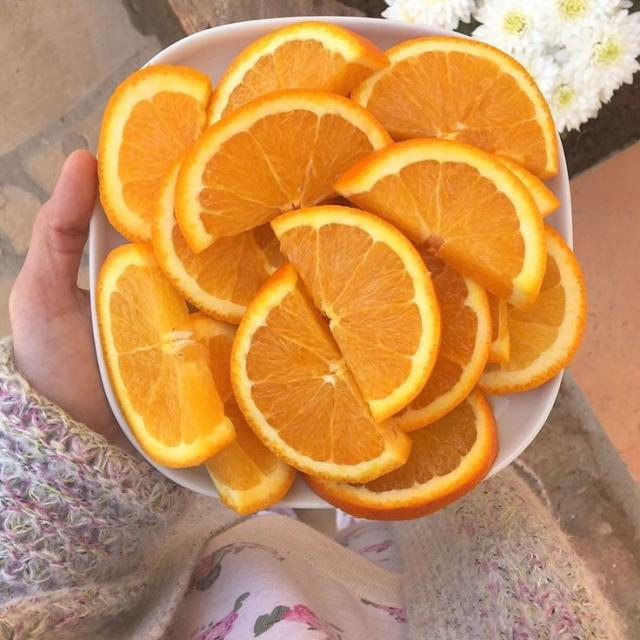orange: (232, 264, 410, 482), (272, 206, 440, 421), (336, 139, 546, 308), (176, 90, 390, 252), (96, 244, 234, 467), (353, 37, 558, 178), (306, 390, 497, 520), (152, 162, 283, 323), (192, 313, 294, 514), (98, 66, 211, 242), (388, 248, 491, 431), (208, 22, 388, 123), (480, 226, 586, 394), (499, 157, 559, 217), (488, 294, 509, 362)
